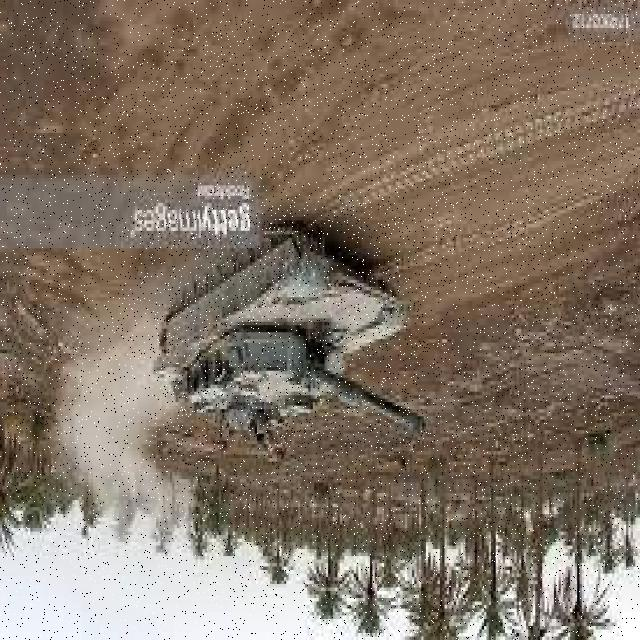MIL_MBT: (155, 219, 423, 449)
